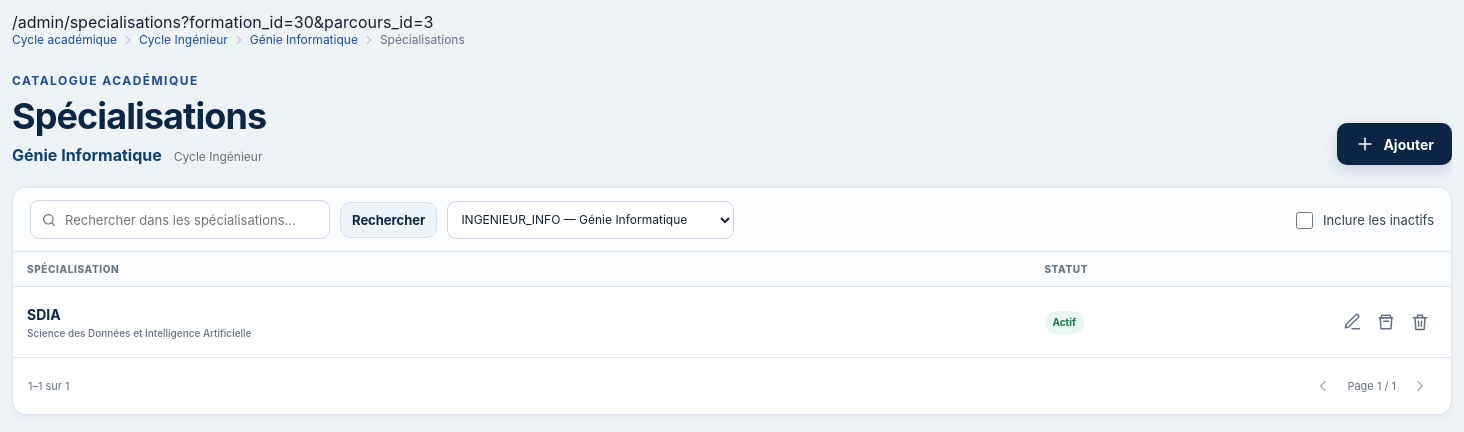
Test: CrudPage hierarchical navigation › updates formation and parcours query params when changing context
Step 1. Select "LICENCE_INFO — Licence Informatique" in the dropdown named "Filtrer par formation" → (591, 220), box [447, 201, 734, 239]
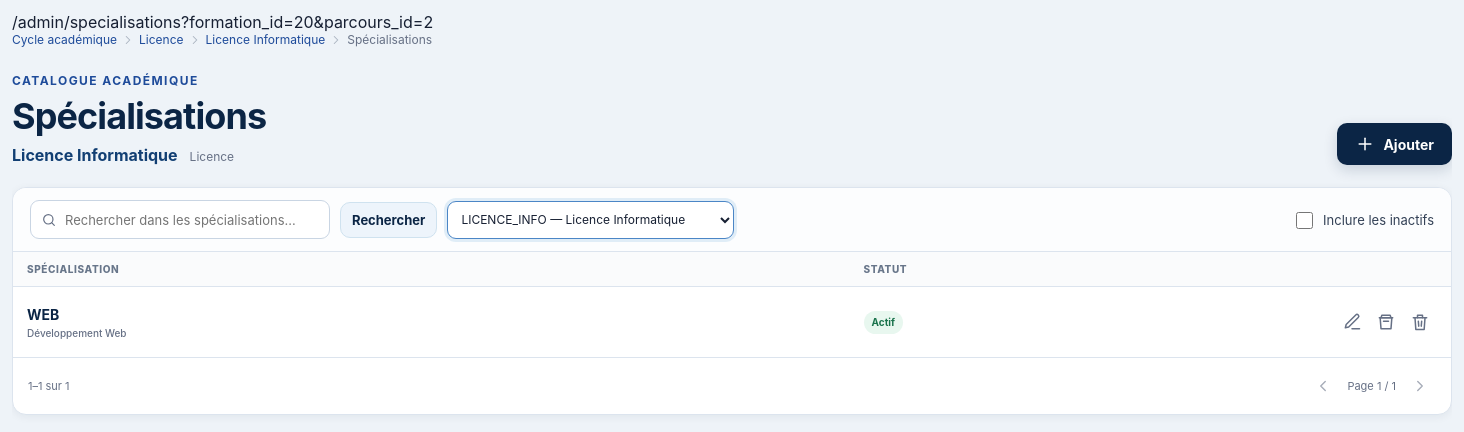
Now the text named "URL courante" reads "/admin/specialisations?formation_id=20&parcours_id=2", box [12, 12, 433, 32]
Now the text "Développement Web" is shown, box [27, 327, 127, 339]
